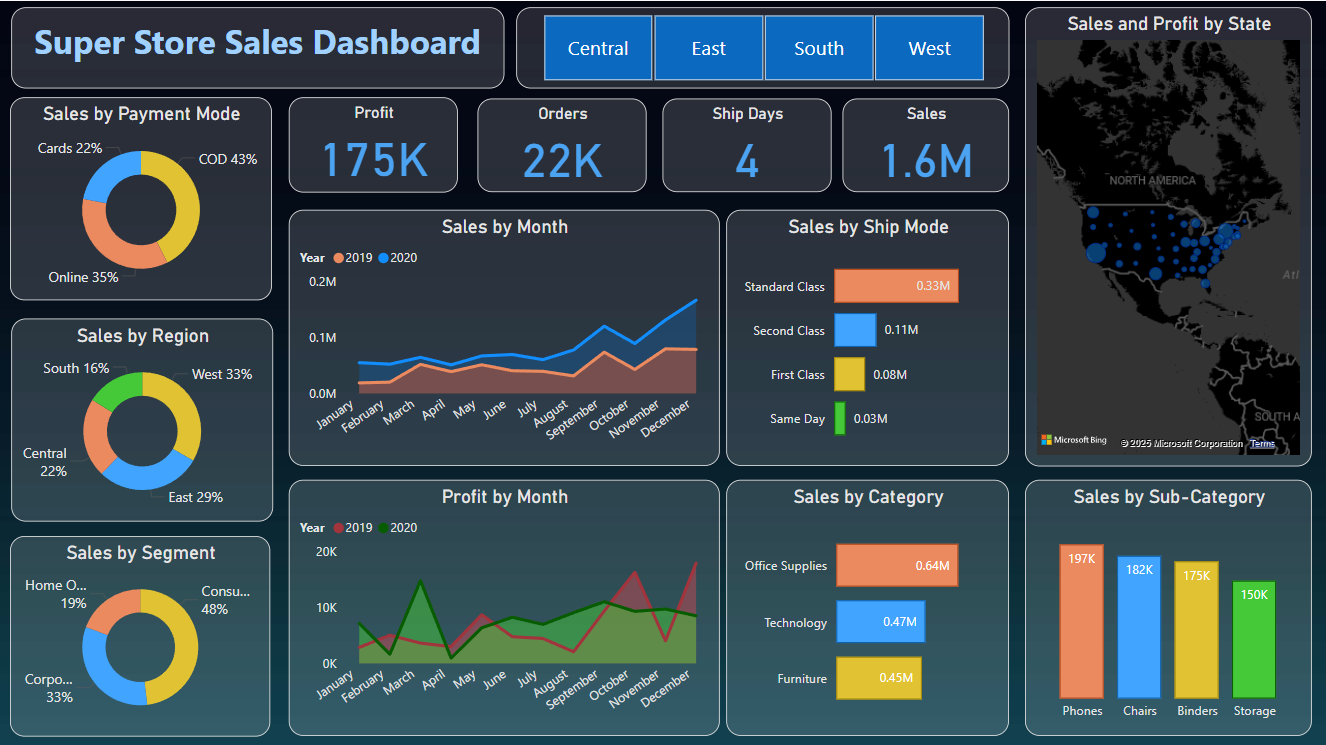

The dashboard page shown, as its layout file describes it:
{"tool":"powerbi","page":{"name":"Page 1","canvas":[1280,720],"ordinal":0},"visuals":[{"type":"clusteredBarChart","title":"Sales by Category","fields":{"Category":["Sheet1.Category"],"Y":["Sum(Sheet1.Sales)"]},"box":[701.2,462.4,273.1,247],"z":0},{"type":"clusteredColumnChart","title":"Sales by Sub-Category","fields":{"Category":["Sheet1.Sub-Category"],"Y":["Sum(Sheet1.Sales)"]},"box":[989.4,462.4,277.2,247],"z":1000},{"type":"clusteredBarChart","title":"Sales by Ship Mode","fields":{"Category":["Sheet1.Ship Mode"],"Y":["Sum(Sheet1.Sales)"]},"box":[701.2,201.7,273.1,247],"z":2000},{"type":"areaChart","title":"Sales by Month","fields":{"Series":["Sheet1.Order Date.Variation.Date Hierarchy.Year"],"Category":["Sheet1.Order Date.Variation.Date Hierarchy.Month","Sheet1.Order Date.Variation.Date Hierarchy.Day"],"Y":["Sum(Sheet1.Sales)"]},"box":[278.6,201.7,415.8,247],"z":3000},{"type":"areaChart","title":"Profit by Month ","fields":{"Category":["Sheet1.Order Date.Variation.Date Hierarchy.Month","Sheet1.Order Date.Variation.Date Hierarchy.Day"],"Y":["Sum(Sheet1.Profit)"],"Series":["Sheet1.Order Date.Variation.Date Hierarchy.Year"]},"box":[278.6,462.4,415.8,247],"z":4000},{"type":"map","title":"Sales and Profit by State","fields":{"Category":["Sheet1.State"],"Size":["Sum(Sheet1.Sales)"]},"box":[989.4,5.5,277.2,443.2],"z":5000},{"type":"donutChart","title":"Sales by Segment","fields":{"Category":["Sheet1.Segment"],"Y":["Sum(Sheet1.Sales)"]},"box":[9.6,516,251.1,193.5],"z":6000},{"type":"donutChart","title":"Sales by Payment Mode","fields":{"Category":["Sheet1.Payment Mode"],"Y":["Sum(Sheet1.Sales)"]},"box":[9.6,93.3,252.5,196.2],"z":7000},{"type":"donutChart","title":"Sales by Region","fields":{"Category":["Sheet1.Region"],"Y":["Sum(Sheet1.Sales)"]},"box":[11,306,252.5,196.2],"z":8000},{"type":"slicer","fields":{"Values":["Sheet1.Region"]},"box":[498.1,5.5,476.2,78.2],"z":9000},{"type":"textbox","box":[11,5.5,476.2,78.2],"z":10000},{"type":"card","title":"Sales","fields":{"Values":["Sum(Sheet1.Sales)"]},"box":[813.7,94.7,160.5,90.6],"z":11000},{"type":"card","title":"Orders","fields":{"Values":["Sum(Sheet1.Quantity)"]},"box":[461.1,94.7,163.3,90.6],"z":12000},{"type":"card","title":"Profit","fields":{"Values":["Sum(Sheet1.Profit)"]},"box":[278.6,93.3,163.3,91.9],"z":13000},{"type":"card","title":"Ship Days","fields":{"Values":["Avg(Sheet1.AvgDelivery)"]},"box":[639.5,94.7,163.3,90.6],"z":14000}]}

Visuals, with their boxes in screenshot pixels (x1, y1, x2, y2), scaled from the page's 1280x720 canvas onto the 1326x745 screenshot:
"Sales by Category" clusteredBarChart: region(726, 478, 1009, 734)
"Sales by Sub-Category" clusteredColumnChart: region(1025, 478, 1312, 734)
"Sales by Ship Mode" clusteredBarChart: region(726, 209, 1009, 464)
"Sales by Month" areaChart: region(289, 209, 719, 464)
"Profit by Month " areaChart: region(289, 478, 719, 734)
"Sales and Profit by State" map: region(1025, 6, 1312, 464)
"Sales by Segment" donutChart: region(10, 534, 270, 734)
"Sales by Payment Mode" donutChart: region(10, 97, 272, 300)
"Sales by Region" donutChart: region(11, 317, 273, 520)
slicer - Sheet1.Region: region(516, 6, 1009, 87)
textbox: region(11, 6, 505, 87)
"Sales" card: region(843, 98, 1009, 192)
"Orders" card: region(478, 98, 647, 192)
"Profit" card: region(289, 97, 458, 192)
"Ship Days" card: region(662, 98, 832, 192)
